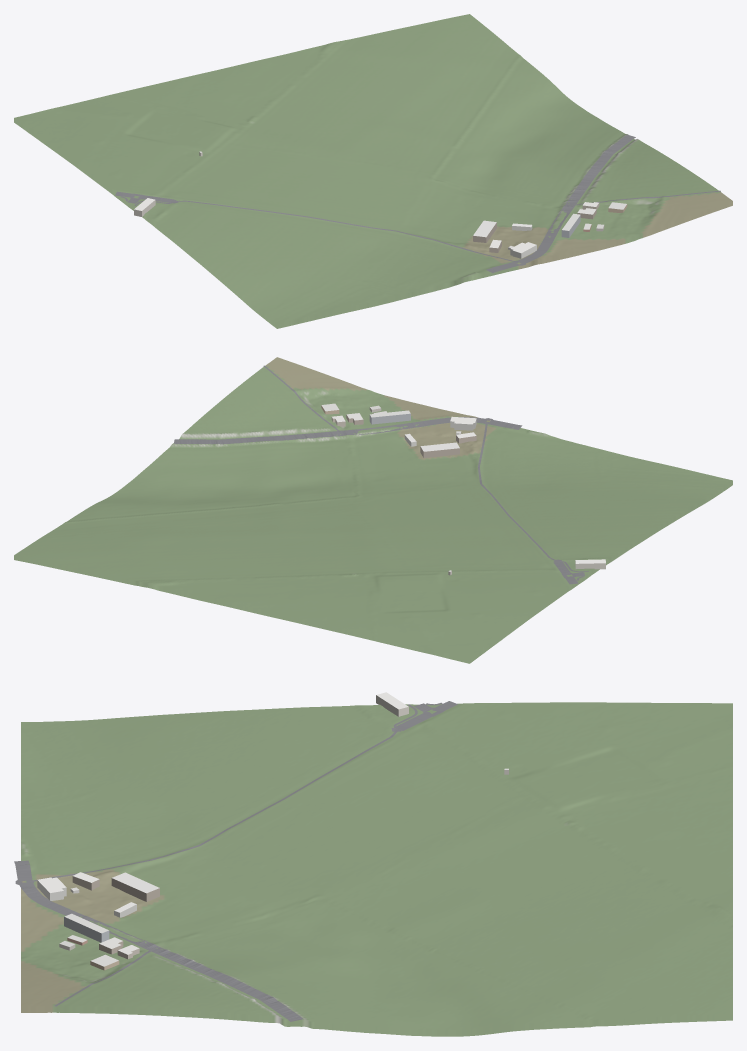
3 views of the same model, one above another, from view 1: azimuth 30°, elevation 25°; view 2: azimuth 150°, elevation 25°; view 3: azimuth 270°, elevation 25° (orthographic). The views are drawn at different scales.
Parts seen in each view (by area): view 1: prim0, prim2, prim1; view 2: prim0, prim2, prim1; view 3: prim0, prim2, prim1.
Boxes of the visible parts, bbox=[...] form: prim0: bbox=[14, 14, 732, 328]; prim2: bbox=[115, 134, 720, 272]; prim1: bbox=[134, 151, 627, 258]; prim0: bbox=[14, 357, 732, 663]; prim2: bbox=[174, 365, 588, 584]; prim1: bbox=[321, 403, 605, 575]; prim0: bbox=[21, 702, 732, 1036]; prim2: bbox=[14, 701, 457, 1021]; prim1: bbox=[37, 692, 508, 970].
Size of the model in its own units: 525 by 30.29 by 517.
